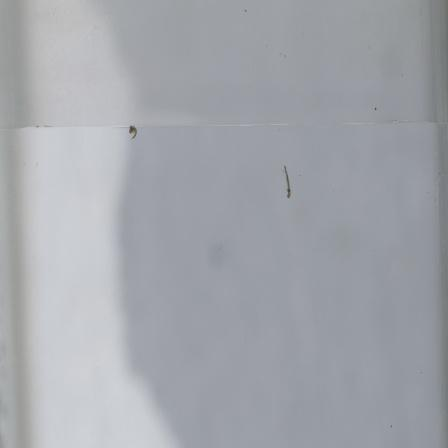Jentik-Nyamuk: (281, 163, 294, 203), (126, 121, 141, 141)
